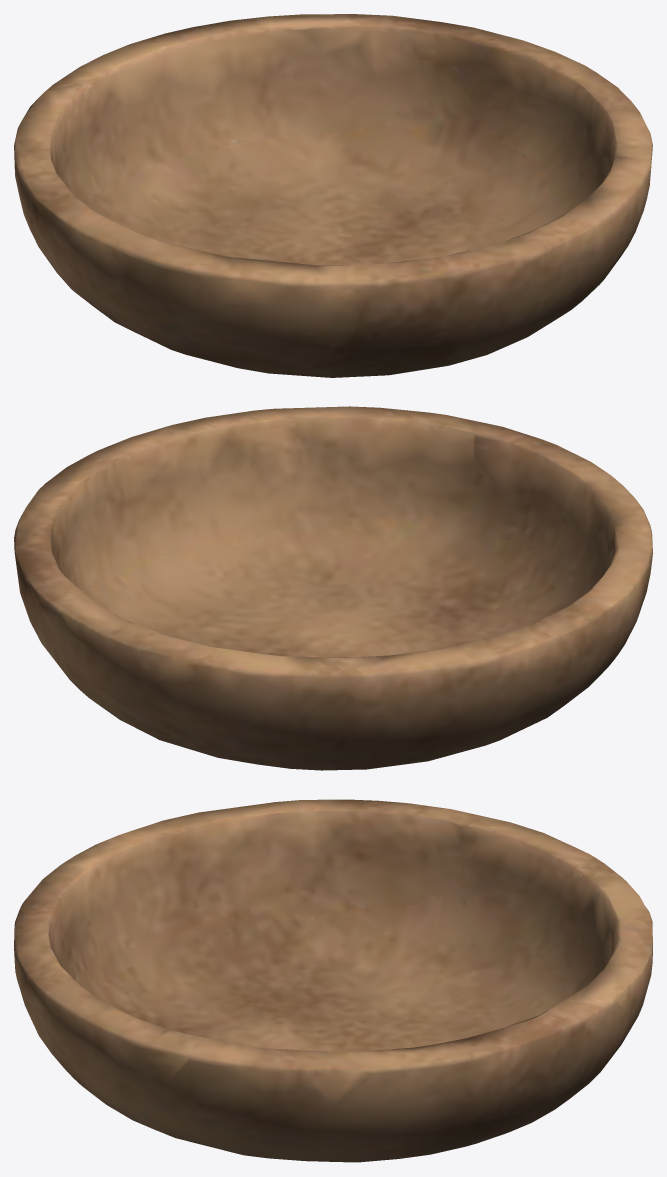
Rendered from ornate-sandstone-basin-v001.glb.
The picture shows the model from 3 angles, top to bottom: view 1: azimuth 30°, elevation 25°; view 2: azimuth 150°, elevation 25°; view 3: azimuth 270°, elevation 25°; orthographic projection.
Parts seen in each view (by area): view 1: ornate-sandstone-basin; view 2: ornate-sandstone-basin; view 3: ornate-sandstone-basin.
Boxes of the visible parts, bbox=[...] form: ornate-sandstone-basin: bbox=[14, 14, 652, 377]; ornate-sandstone-basin: bbox=[14, 406, 652, 770]; ornate-sandstone-basin: bbox=[14, 799, 652, 1162].
Size of the model in its own units: 1.52 by 0.3992 by 1.52.
Materials: 1 (1 with a texture image).
